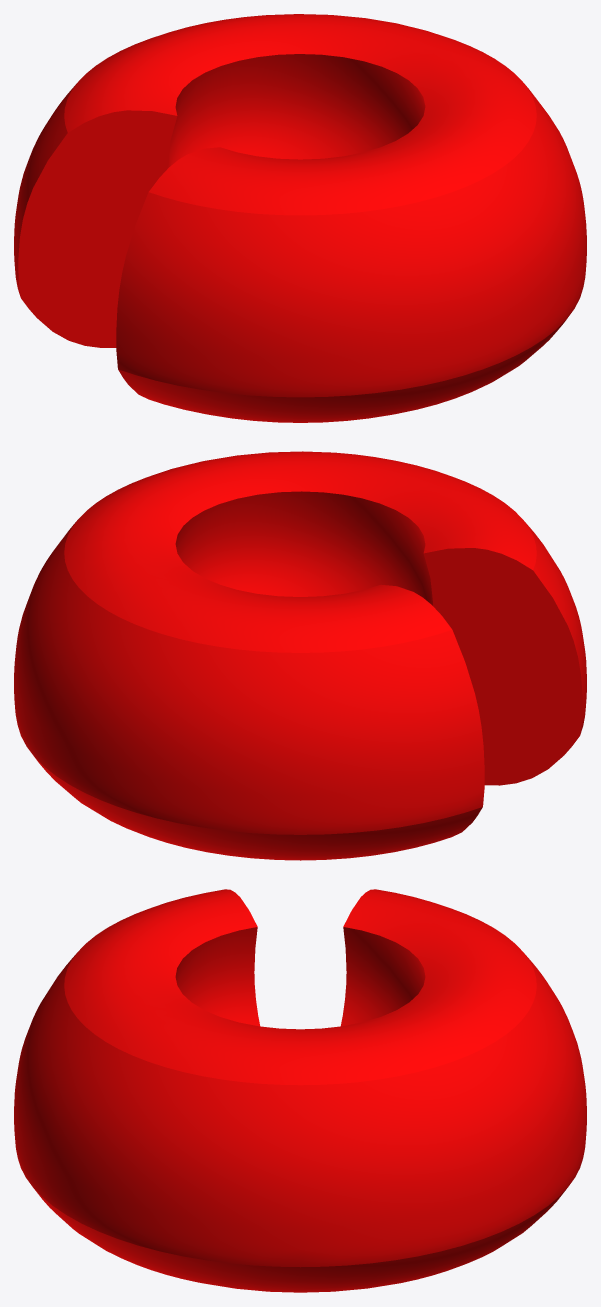
Rendered from workspace.dae.
3 views of the same model, one above another, from view 1: azimuth 30°, elevation 25°; view 2: azimuth 150°, elevation 25°; view 3: azimuth 270°, elevation 25° (orthographic).
Parts seen in each view (by area): view 1: Body1; view 2: Body1; view 3: Body1.
Boxes of the visible parts, left/top/right/bottom form: Body1: left=14, top=14, right=586, bottom=422; Body1: left=14, top=451, right=586, bottom=860; Body1: left=14, top=889, right=586, bottom=1292.
Bounding box in the file's own units: 0.8535 × 0.8802 × 0.4014.
